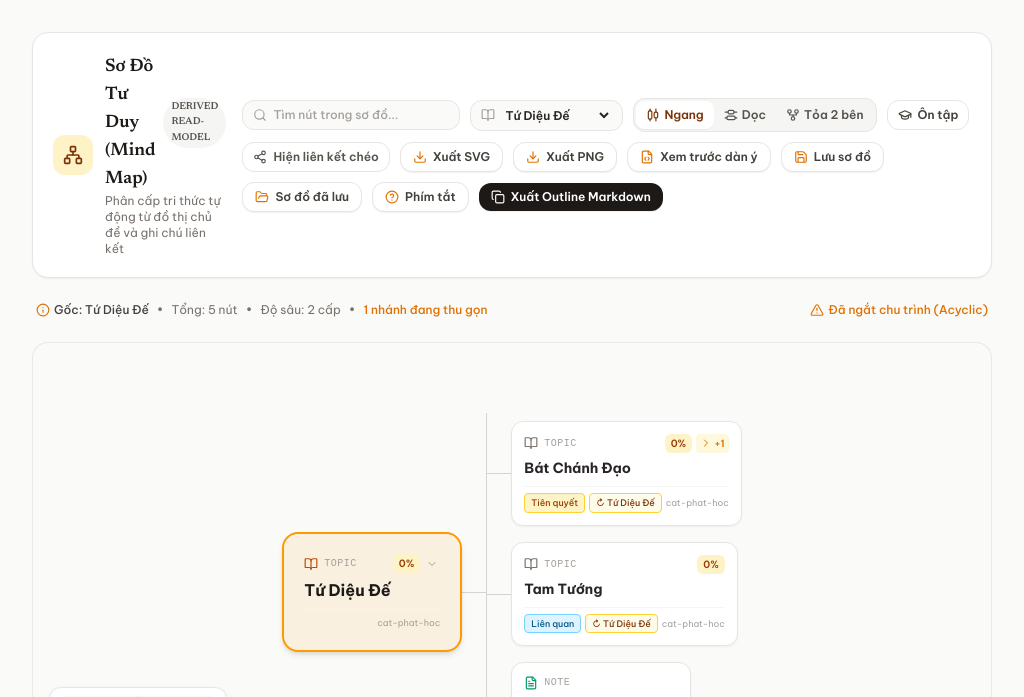
Test case: Mind Map Feature S1: In-Canvas Search & Node Highlight Filter › 2. MindMapView In-Canvas Search Toolbar & Highlight Lifecycle › Scenario 2.2: auto-expands collapsed ancestor path in-memory when matching node is inside a collapsed branch
Note: Search for "Chánh Kiến"
Type "Chánh Kiến" into the field with placeholder "Tìm nút trong sơ đồ..." at (361, 115), box 273,107 -> 449,123
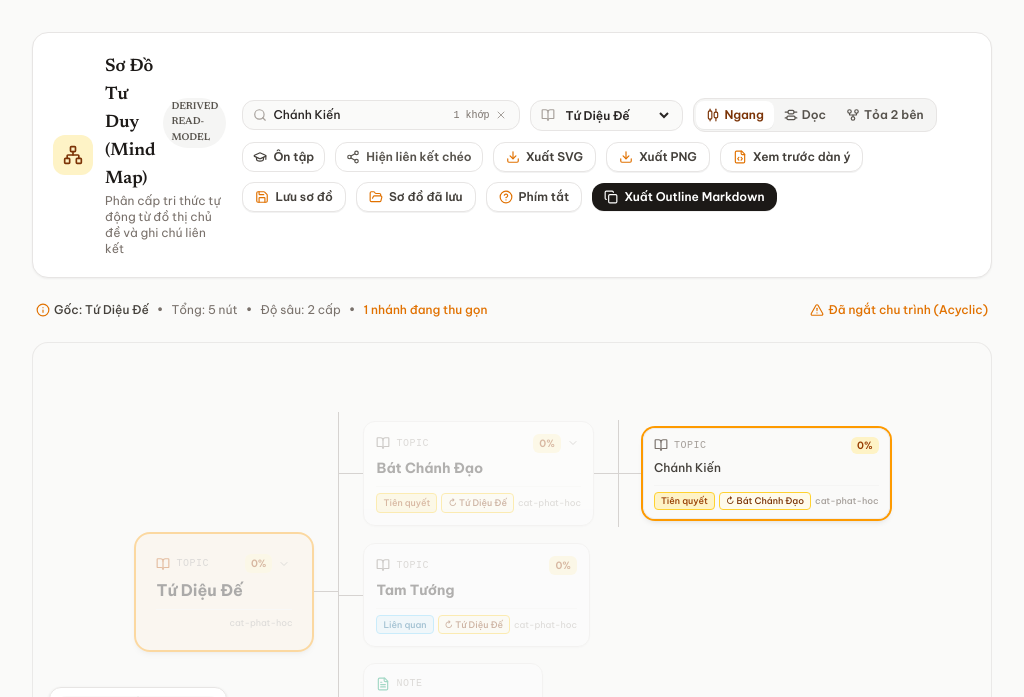
Expected: the element showing "topic 0% Chánh Kiến Tiên quyết ↻ Bát Chánh Đạo cat-phat-hoc" is shown, 643,428 -> 890,519
